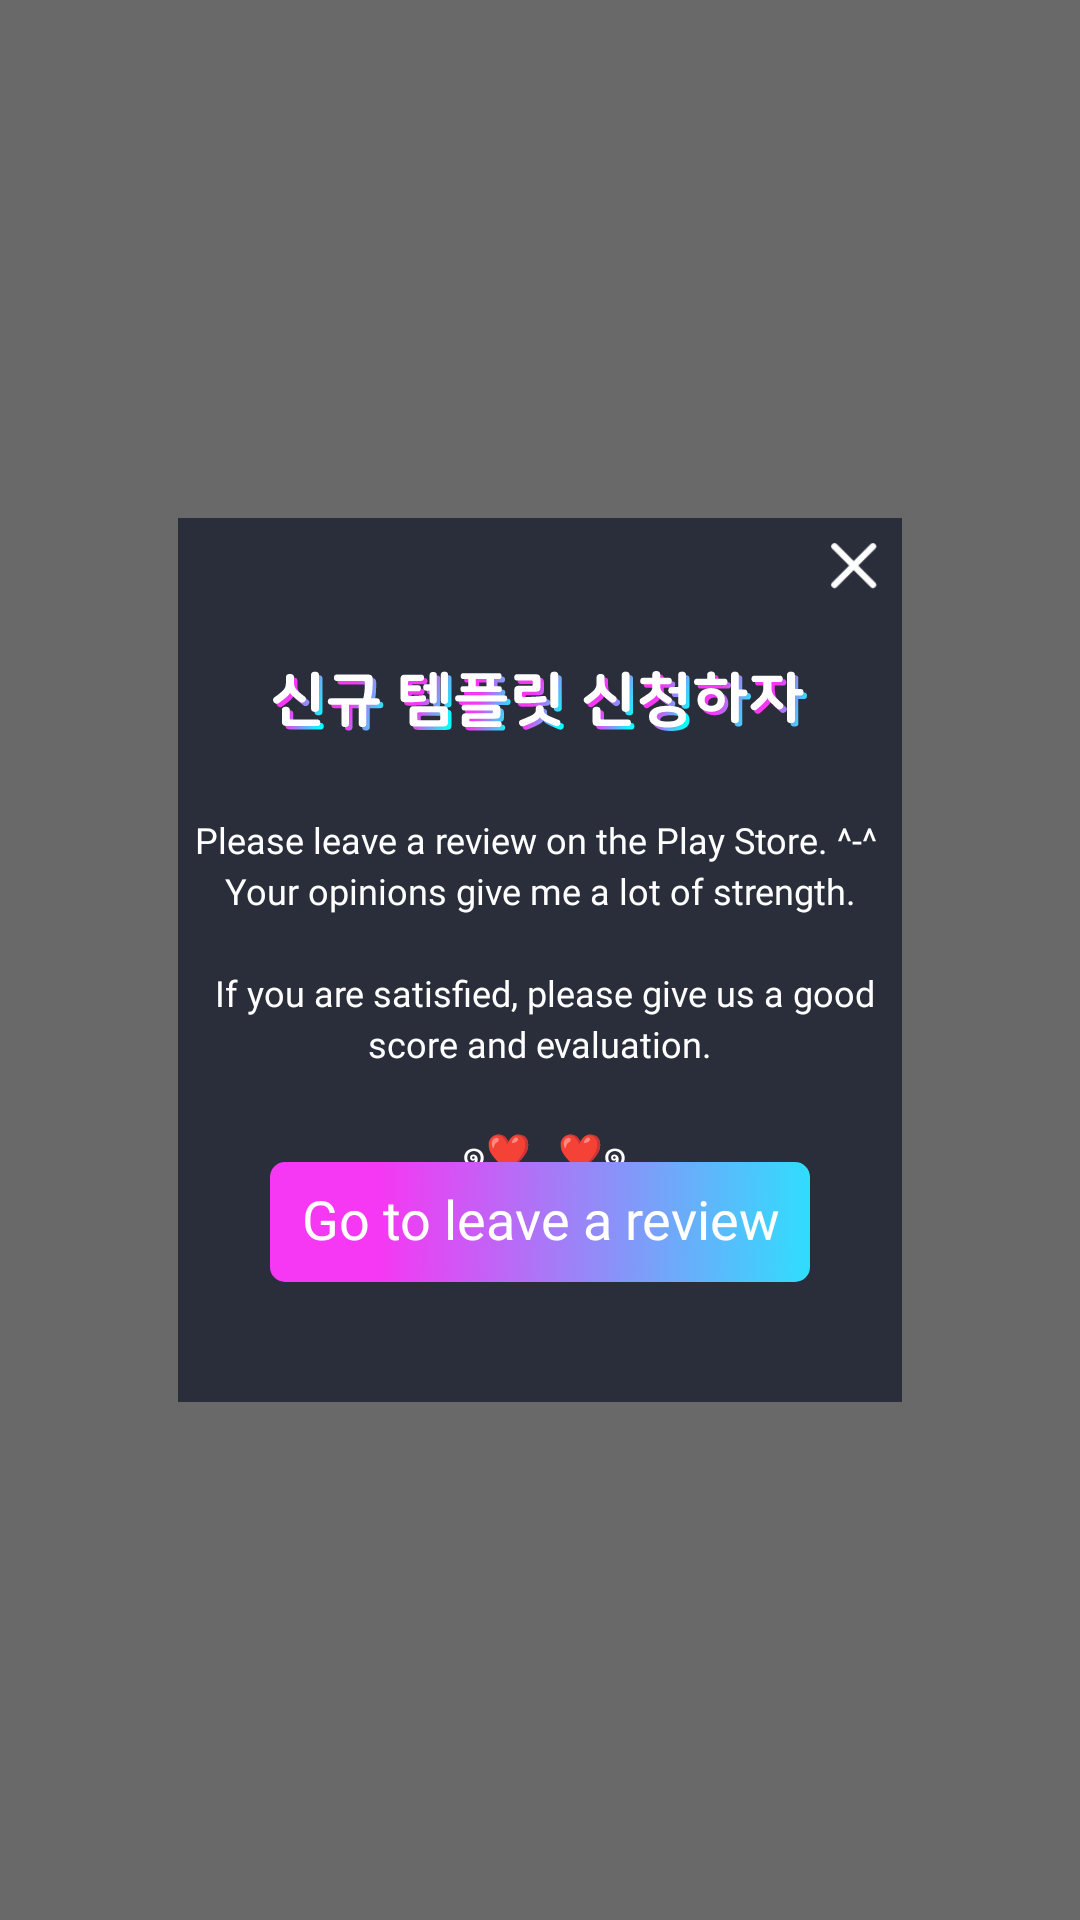

Where icons sit on this 1080px x 1920px app screen, as (x1, y1, x2, y2):
delete: (831, 543, 877, 589)
